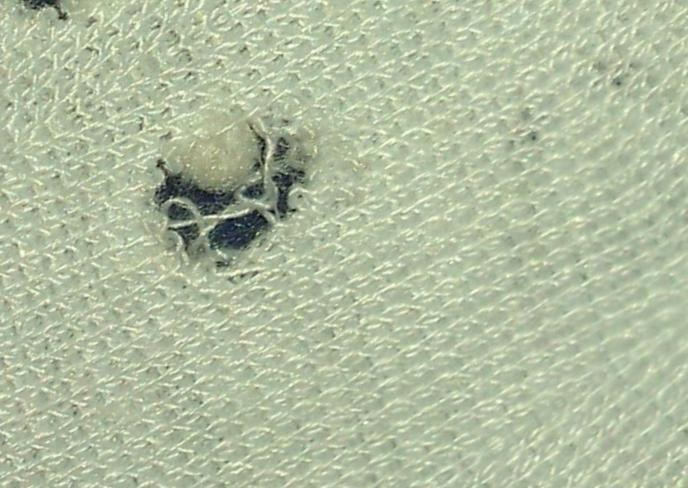hole: (158, 97, 285, 201)
